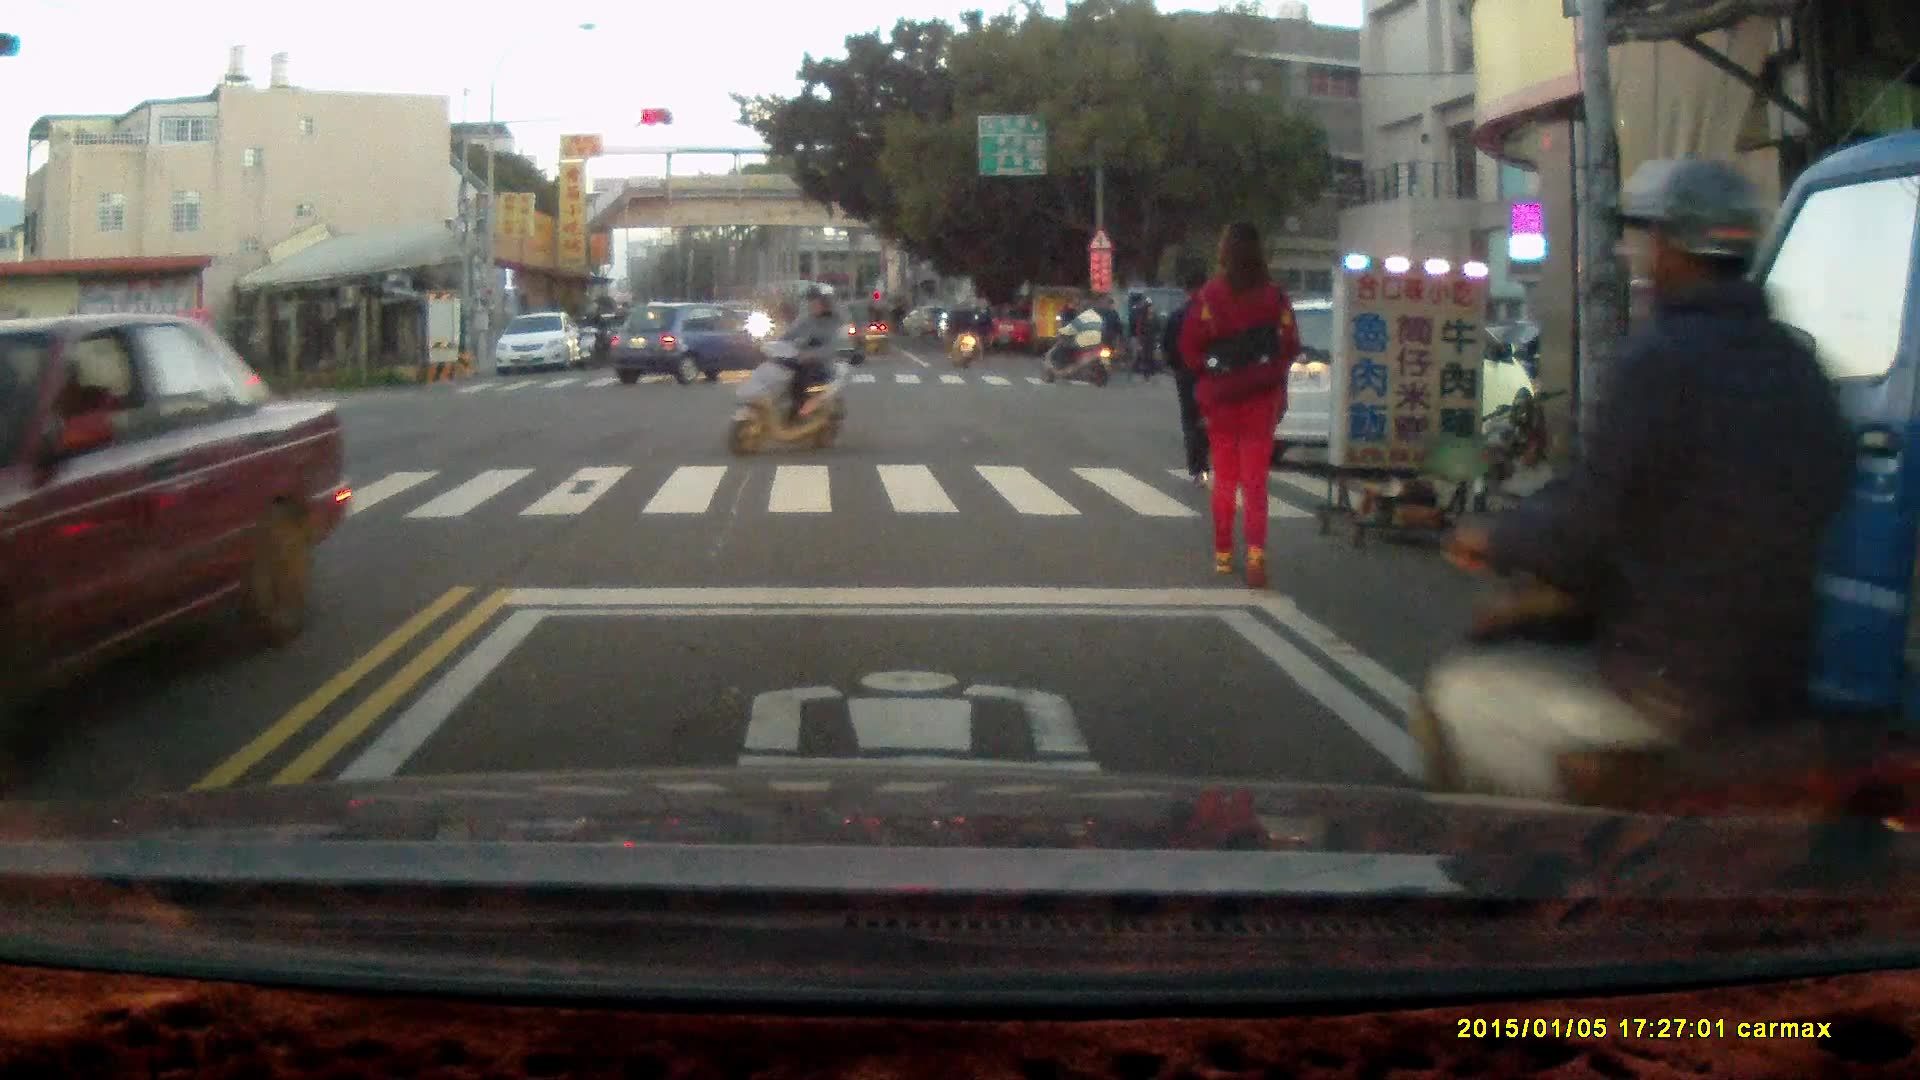pedestrian: (1177, 213, 1305, 588), (1156, 260, 1242, 487), (1085, 290, 1118, 383), (1131, 301, 1161, 386), (972, 293, 996, 368)
rider: (1411, 156, 1905, 888), (727, 283, 860, 460), (1039, 295, 1115, 387), (940, 292, 981, 370), (575, 302, 607, 370)
vehicle: (1598, 132, 1920, 878), (1, 312, 350, 732), (1233, 296, 1533, 459), (612, 304, 790, 389), (498, 313, 586, 377)
